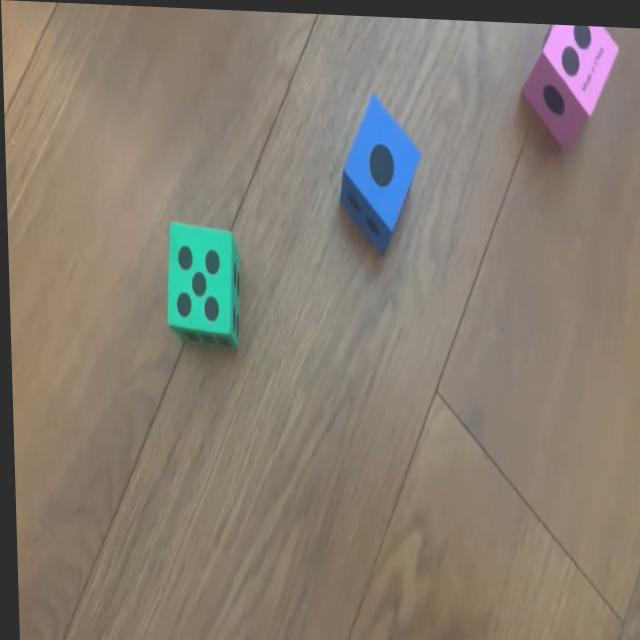blue_block: (337, 91, 421, 253)
